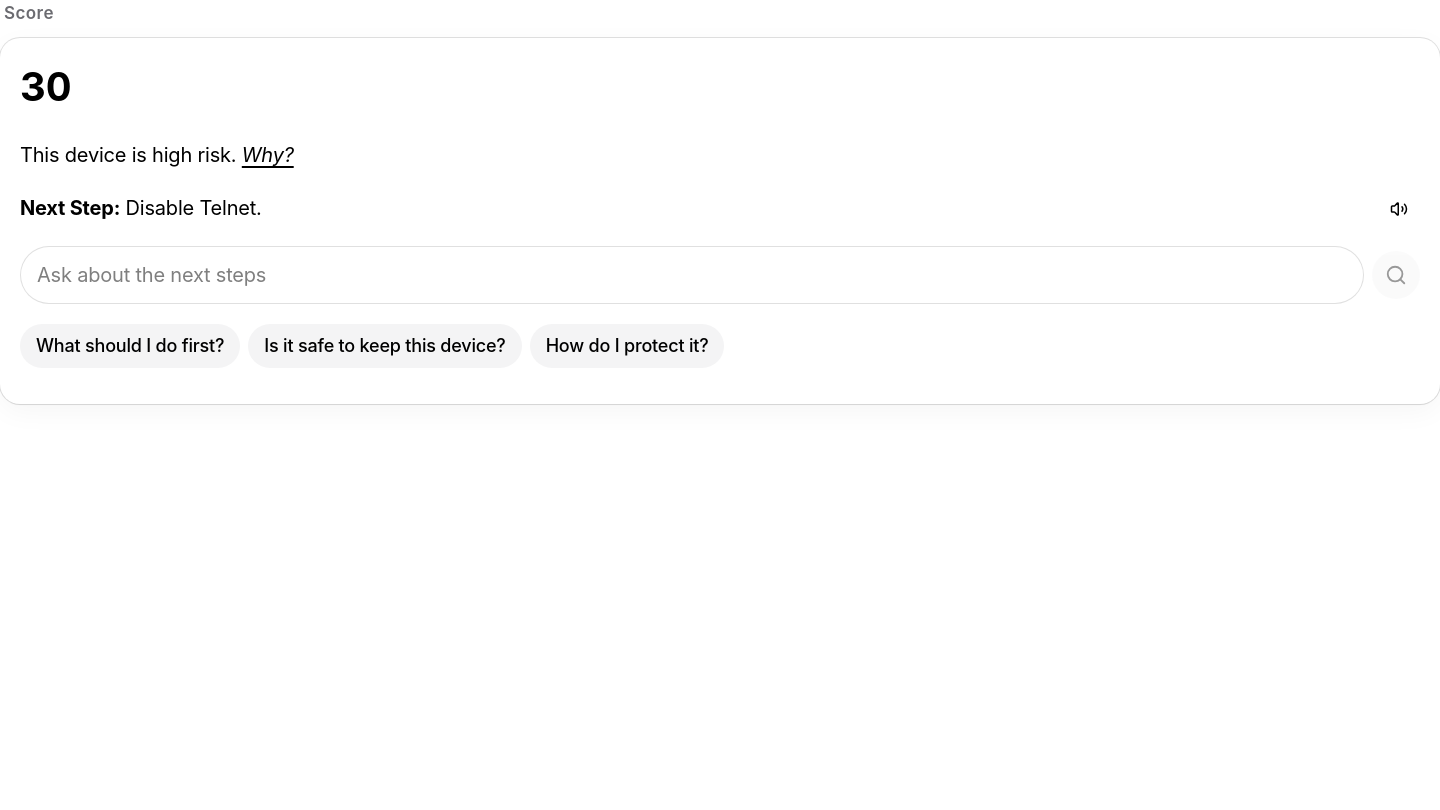
Test case: keeps the score simple and opens its breakdown on demand
The image size is (1440, 810).
Expected: the text "This device is high risk." is shown, [20,143,236,167]
What coordinates should you click on to do the following:
click the button "Why?"
I would click on:
 (268, 156)
Its box is [242,139,294,172].
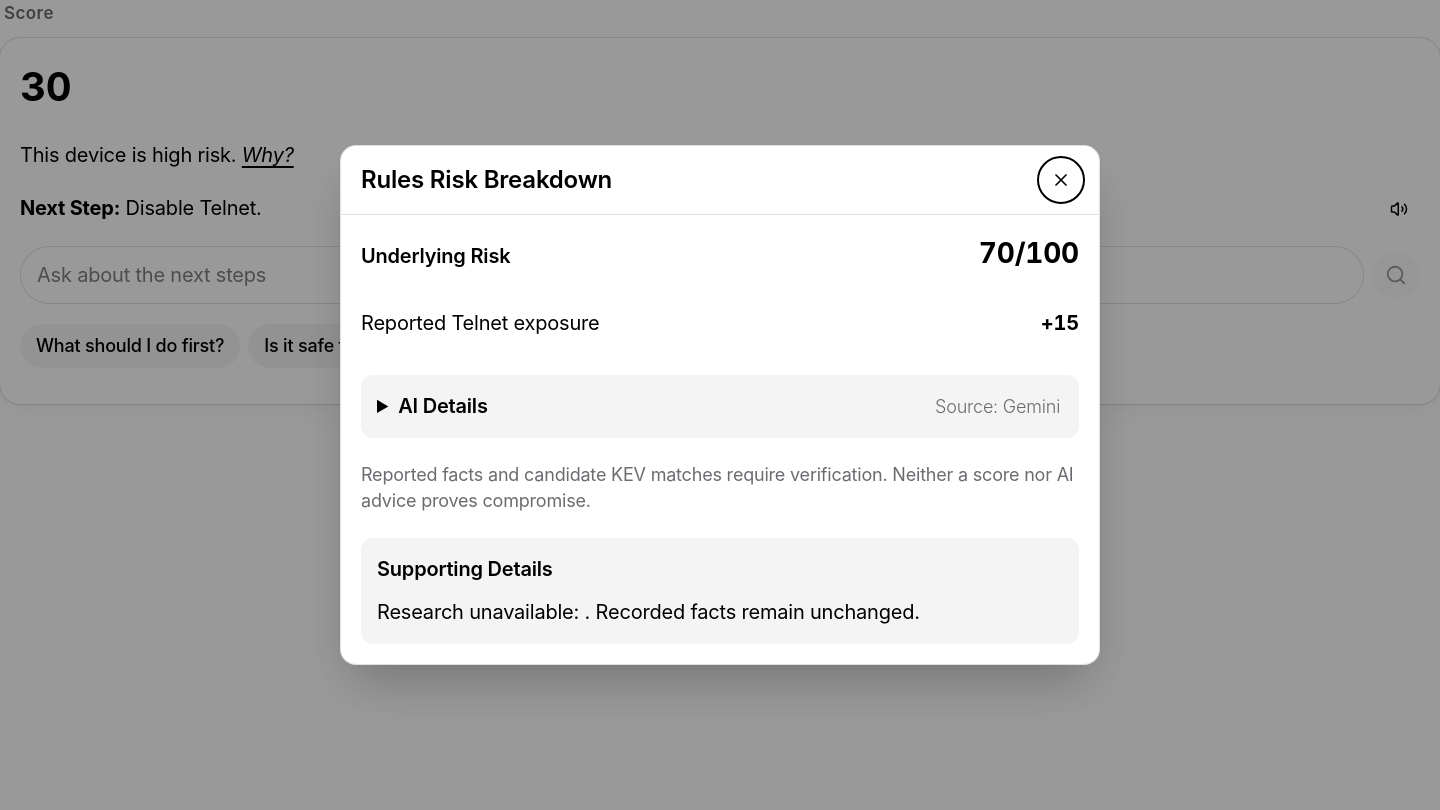
Now the dialog "Rules Risk Breakdown" is shown, box [340,145,1100,665]
Now the text "Reported Telnet exposure" is shown, box [361,308,600,340]
